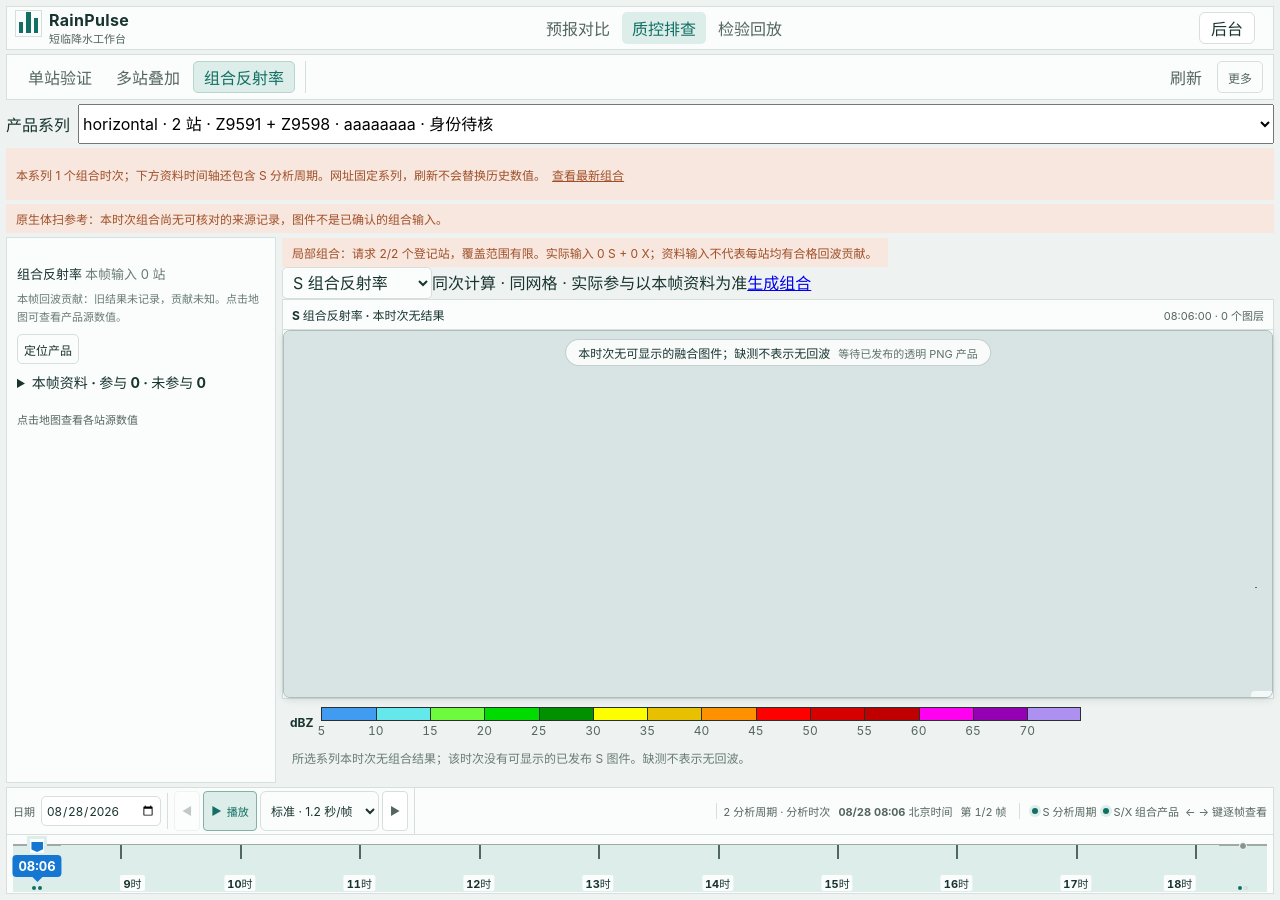
Test: distinguishes reference analysis times and can leave a pinned old composite without changing its time
The image size is (1280, 900).
Expected: the text "本系列 1 个组合时次；下方资料时间轴还包含 S 分析周期。网址固定系列，刷新不会替换历史数值。 查看最新组合" is shown, 6,148 -> 1274,200
Expected: the text "2 分析周期 · 分析时次" is shown, 723,803 -> 830,819
Click the button "查看最新组合". click: (588, 174)
box: 546,154 -> 630,194
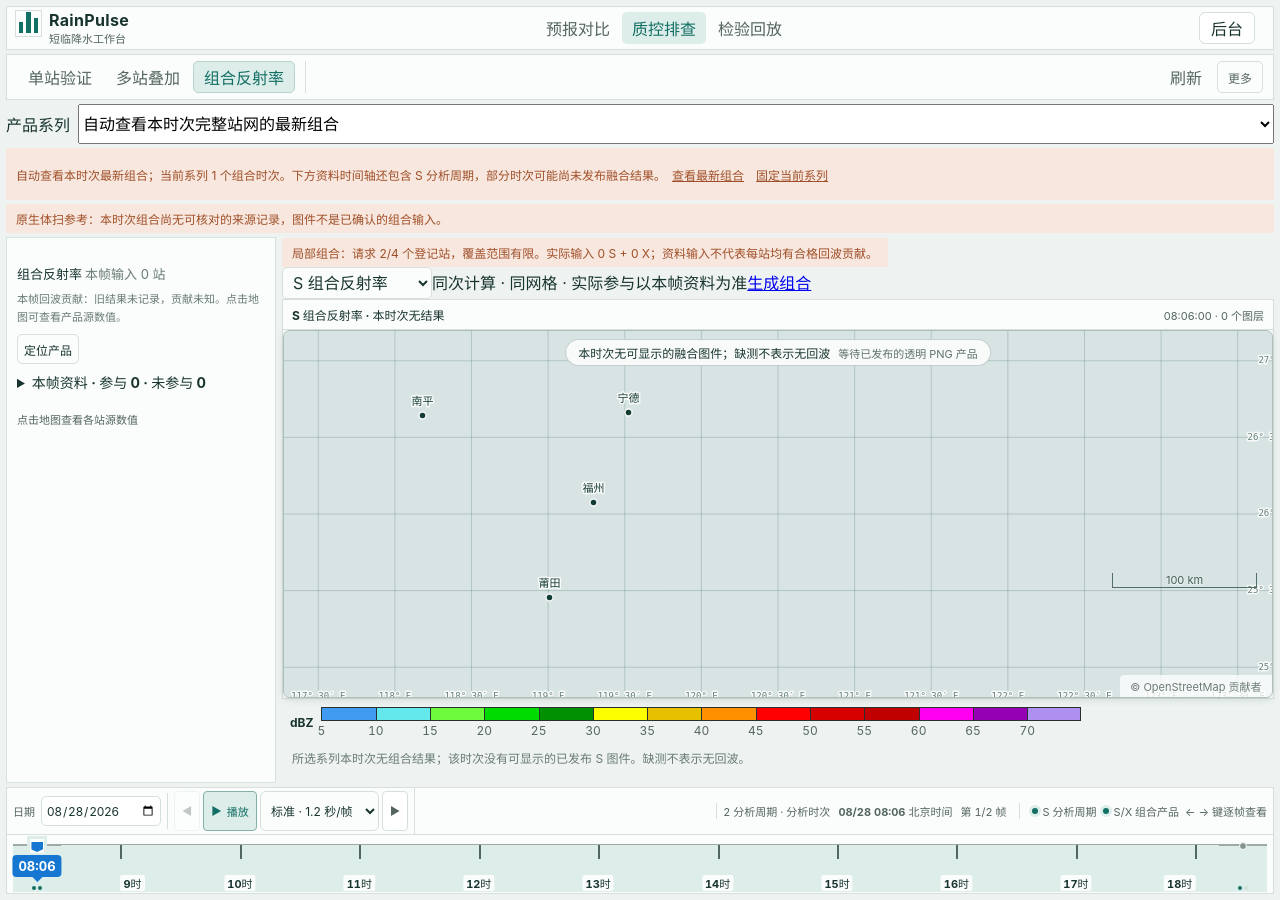
Result: the button "固定当前系列" is shown at 750,154 -> 834,194
